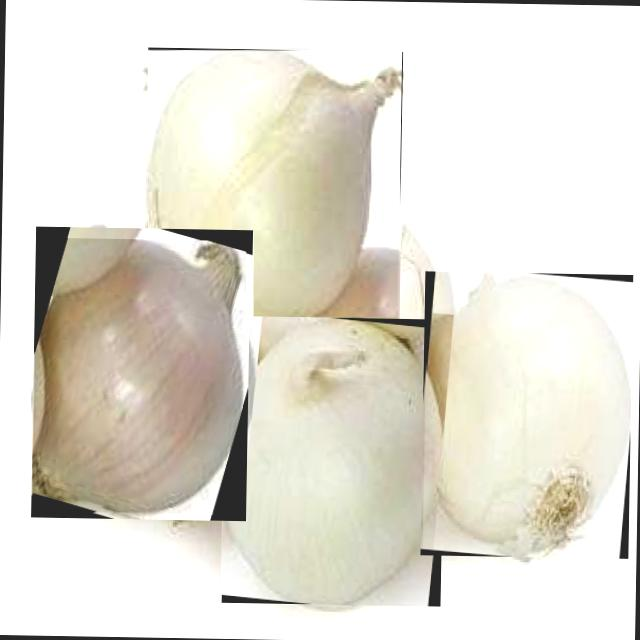healthy: (147, 49, 401, 328), (223, 317, 442, 604), (426, 272, 631, 556), (32, 239, 242, 512)
